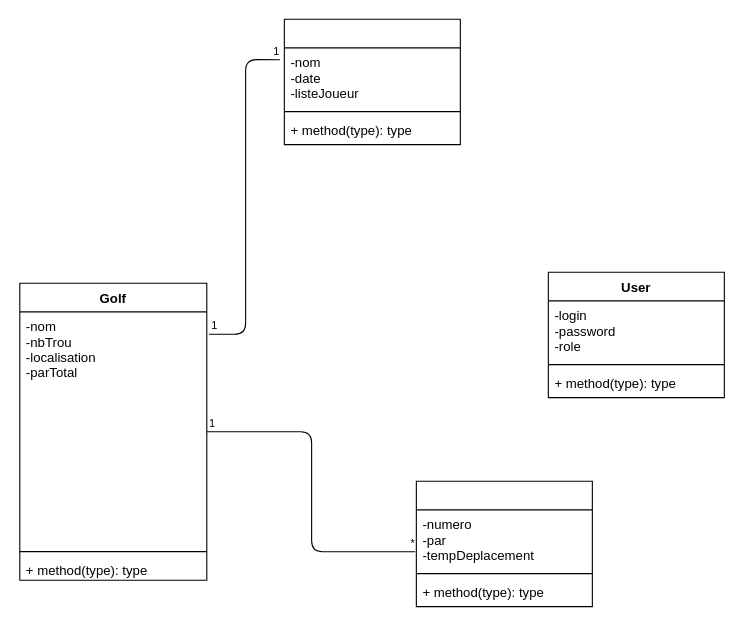
The diagram is 744 pixels wide and 629 high, and some of its shapes have lost their labels. Each missing label, with the box of its shape:
Competition: (283, 18, 460, 145)
Trou: (415, 480, 592, 607)
